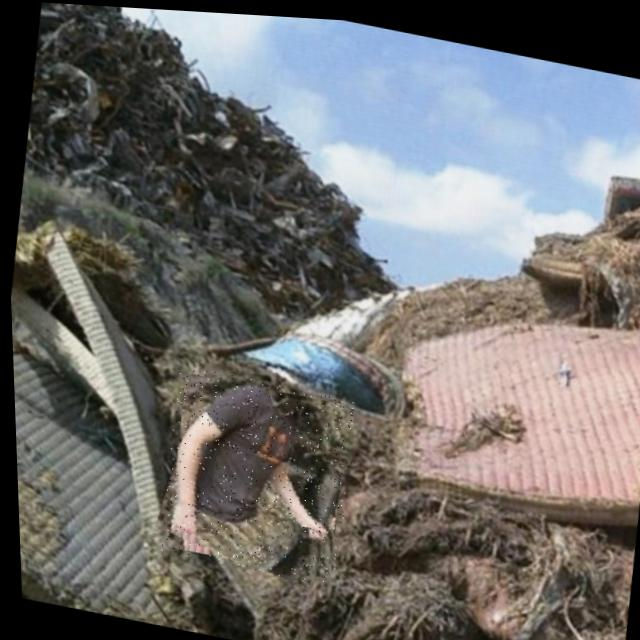Person in Rubble: (150, 362, 359, 585)
